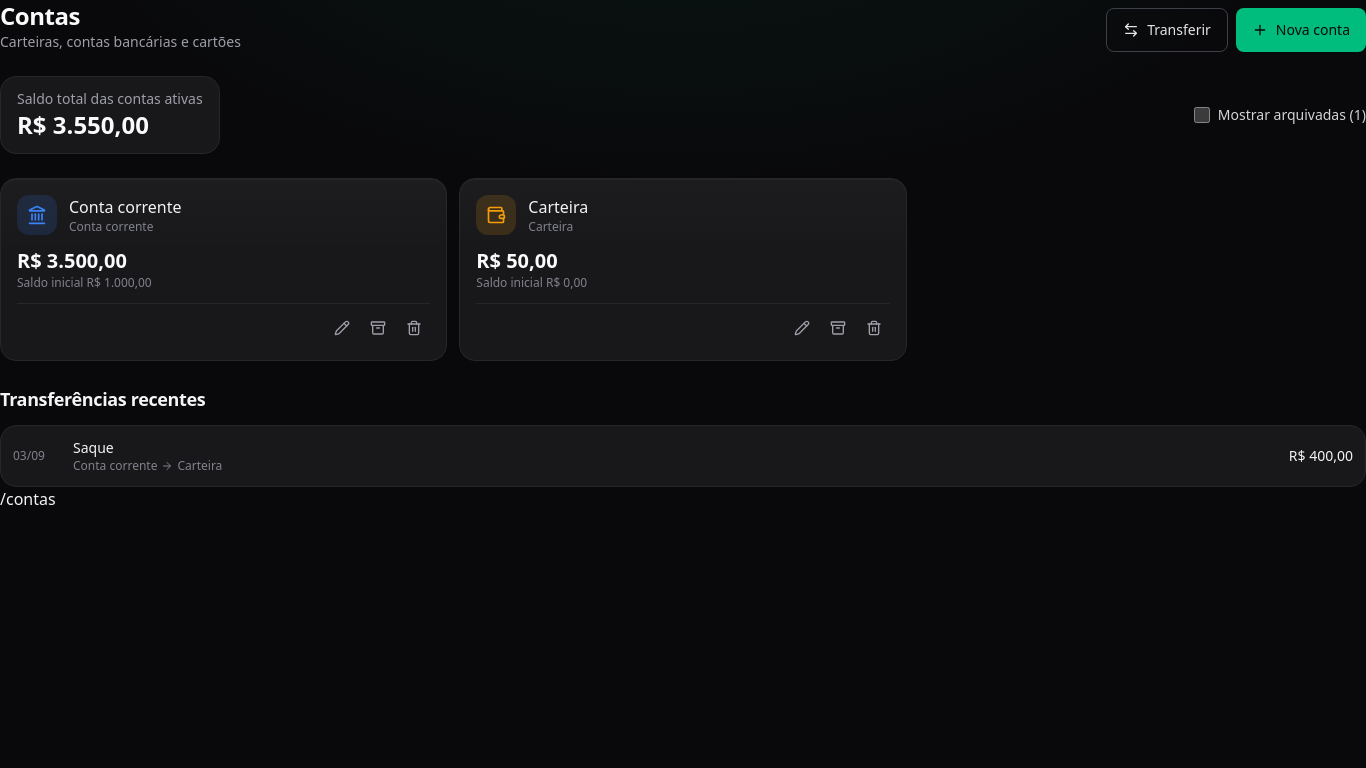
it: AccountsPage › creates an account with a negative initial balance in integer cents
expect the element "Carteira" is shown: met, box x1=459 y1=178 x2=907 y2=361
Click the button "Nova conta".
click(1301, 30)  # box x1=1236 y1=8 x2=1365 y2=52
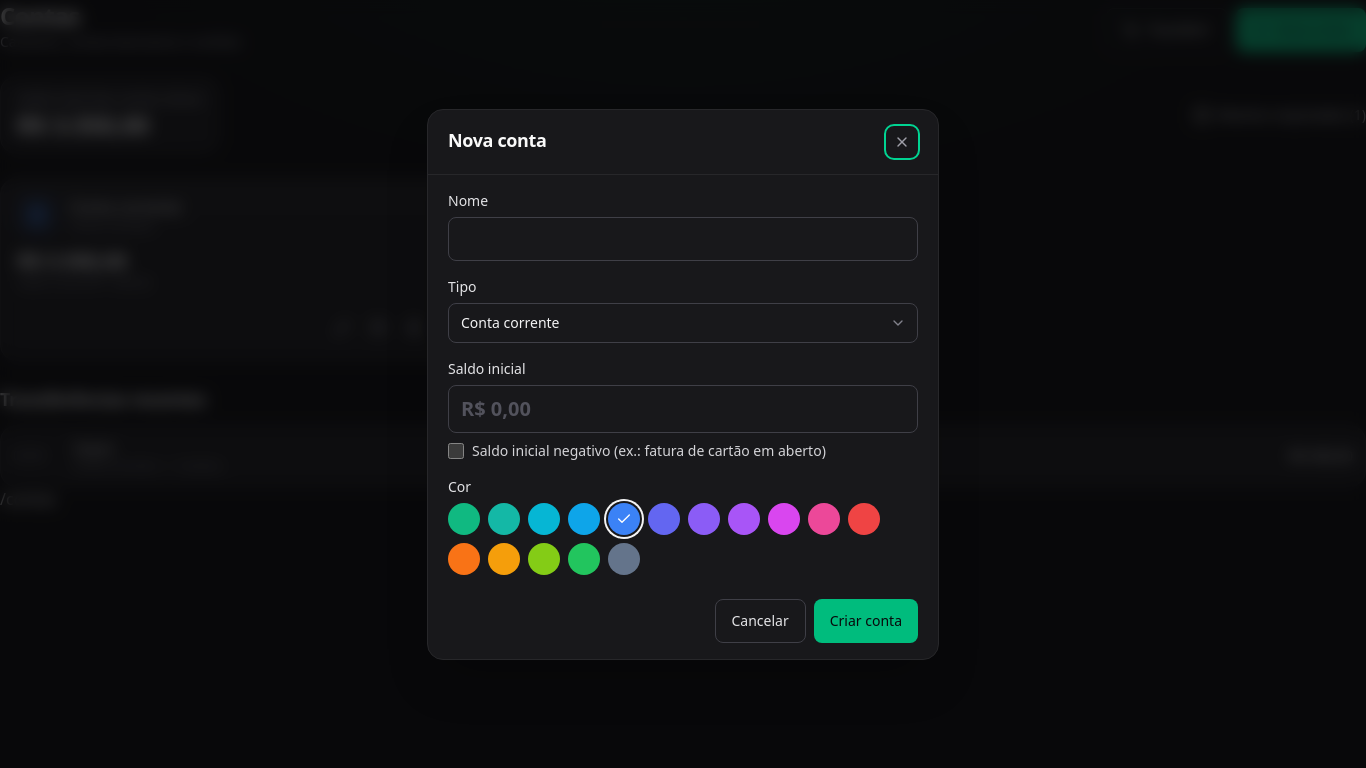
Type "Cartão Roxo" into the field labelled "Nome".
click(683, 238); type("Cartão Roxo")  # box x1=448 y1=216 x2=918 y2=260
Select "Cartão de crédito" in the dropdown labelled "Tipo" at [683, 322], box x1=448 y1=302 x2=918 y2=342
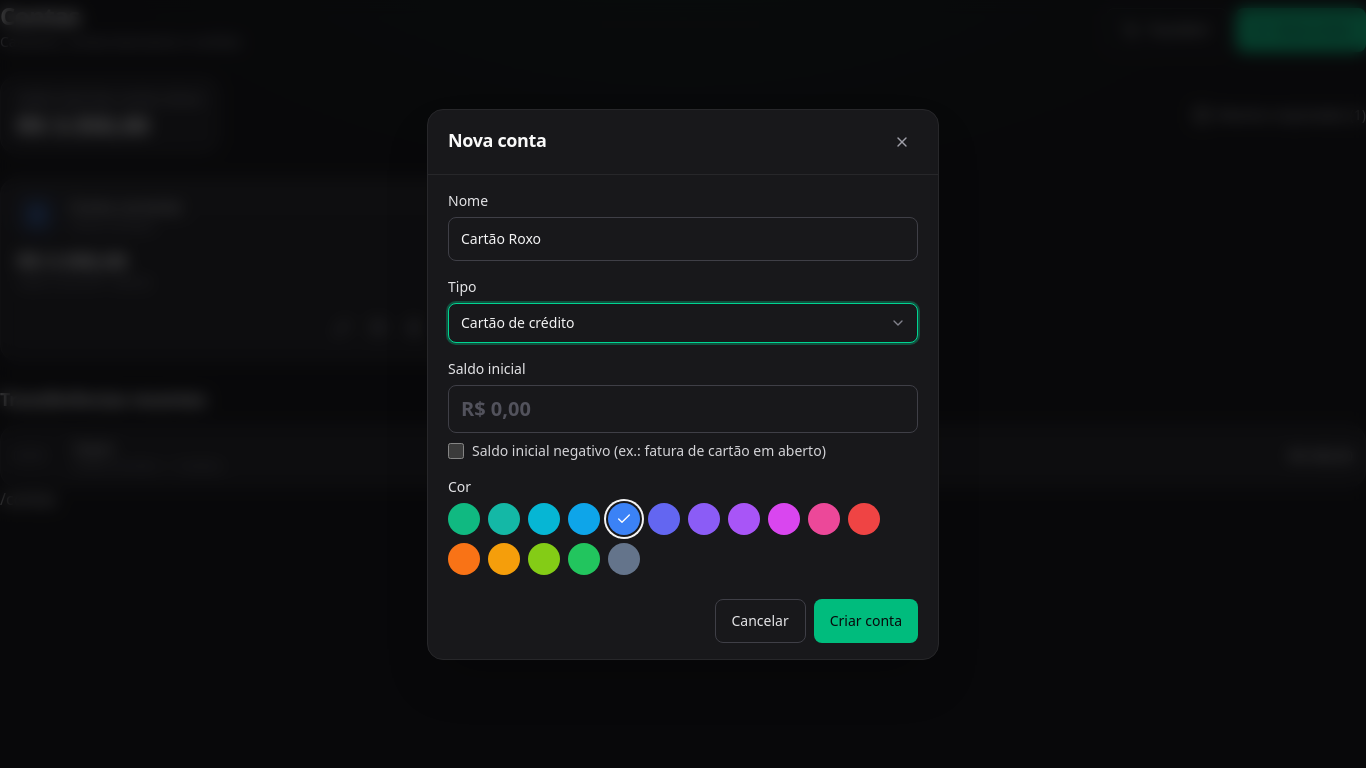
Type "123456" into the field labelled "Saldo inicial".
click(683, 408); type("123456")  # box x1=448 y1=384 x2=918 y2=432
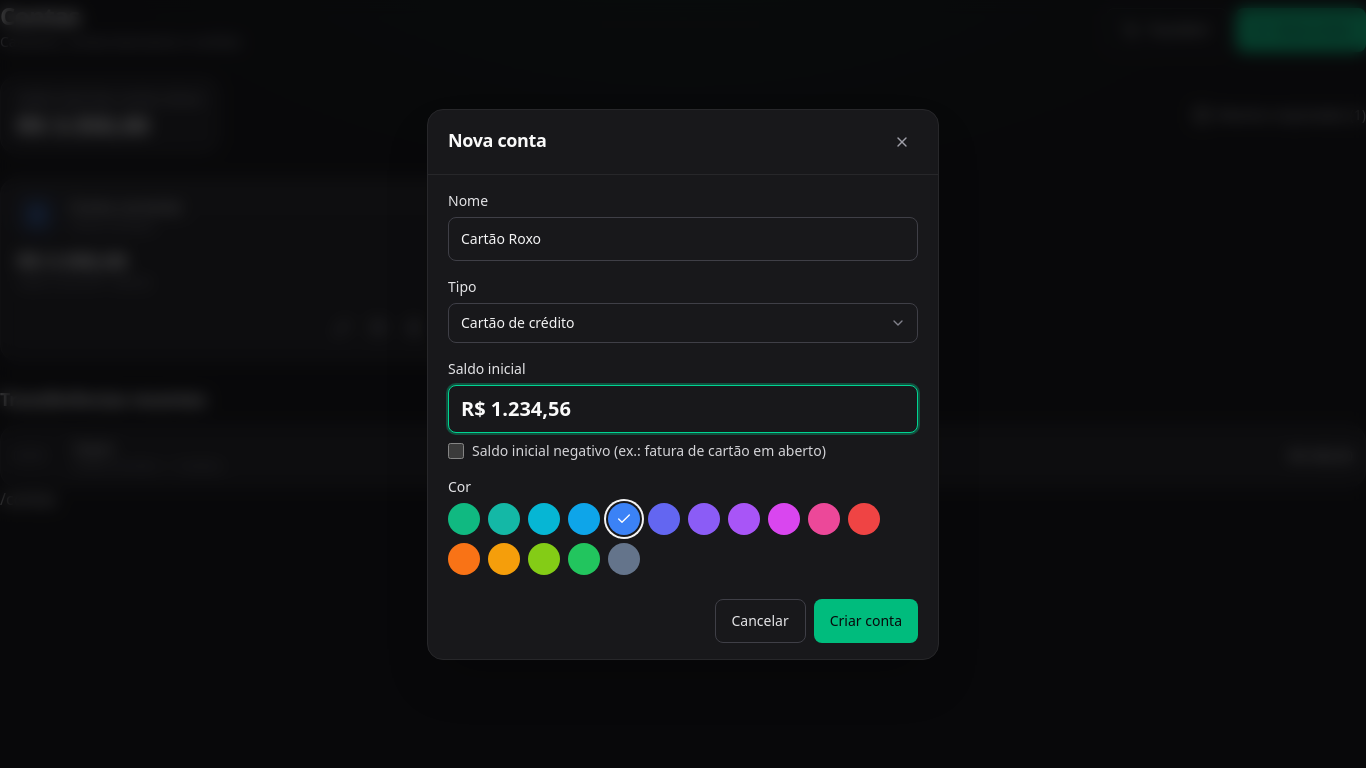
Click the checkbox labelled "Saldo inicial negativo (ex.: fatura de cartão em aberto)".
click(456, 450)  # box x1=448 y1=442 x2=464 y2=458
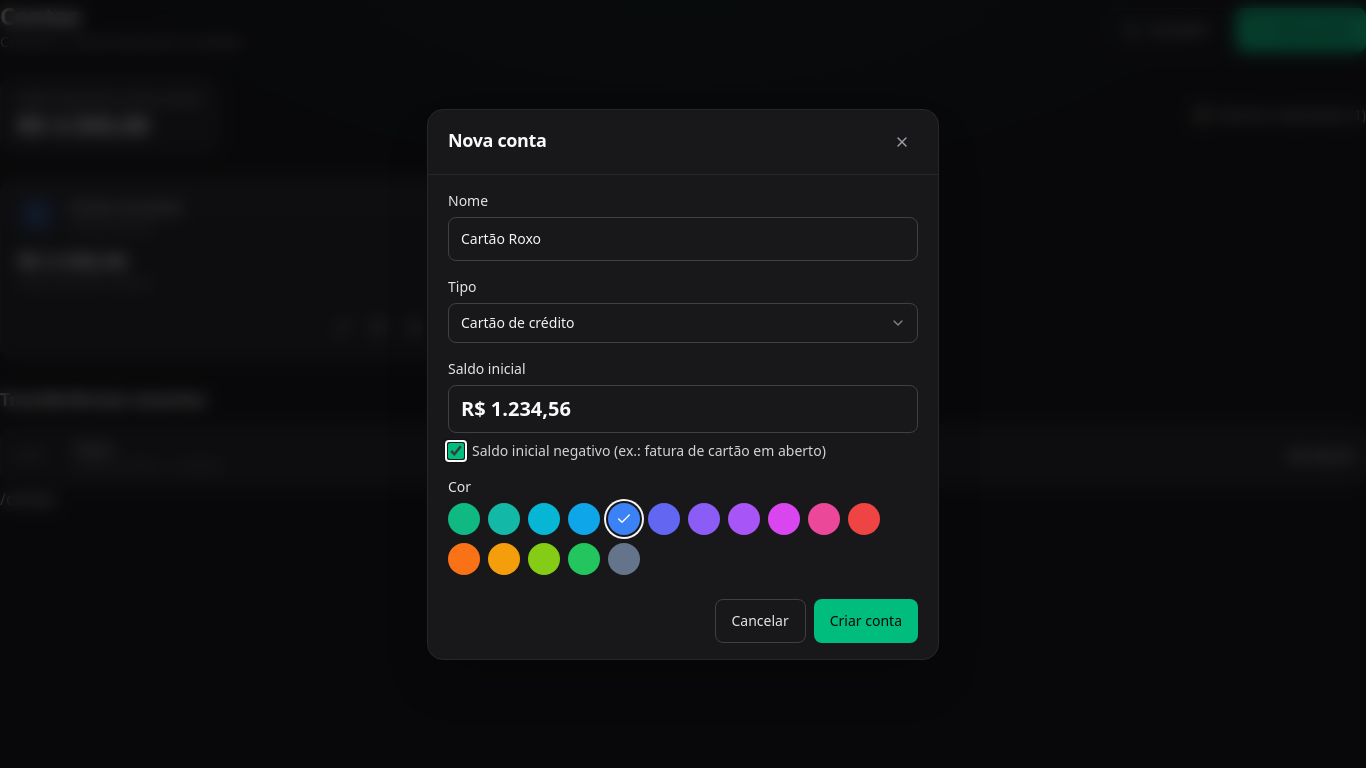
Click the radio button named "Roxo".
click(744, 518)  # box x1=728 y1=502 x2=760 y2=534
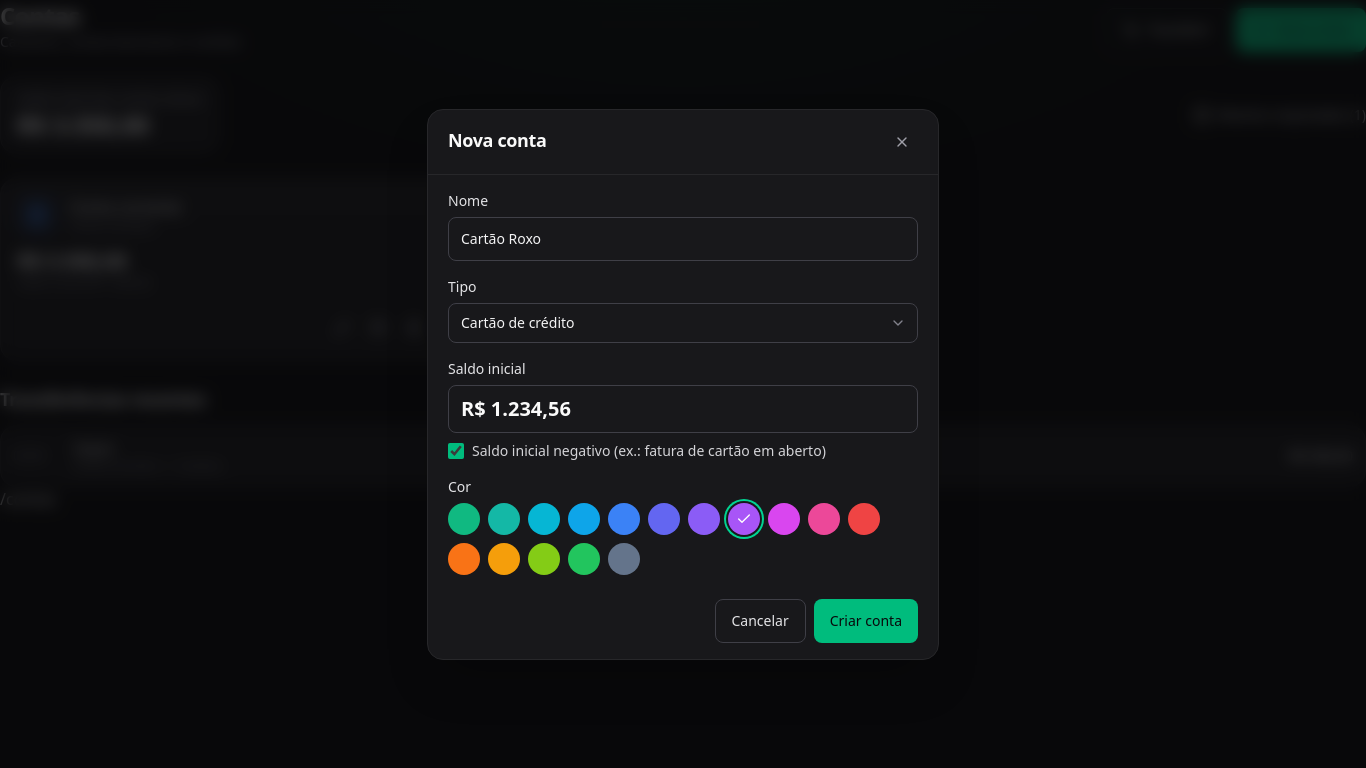
Click the button "Criar conta".
click(866, 620)  # box x1=814 y1=598 x2=918 y2=642
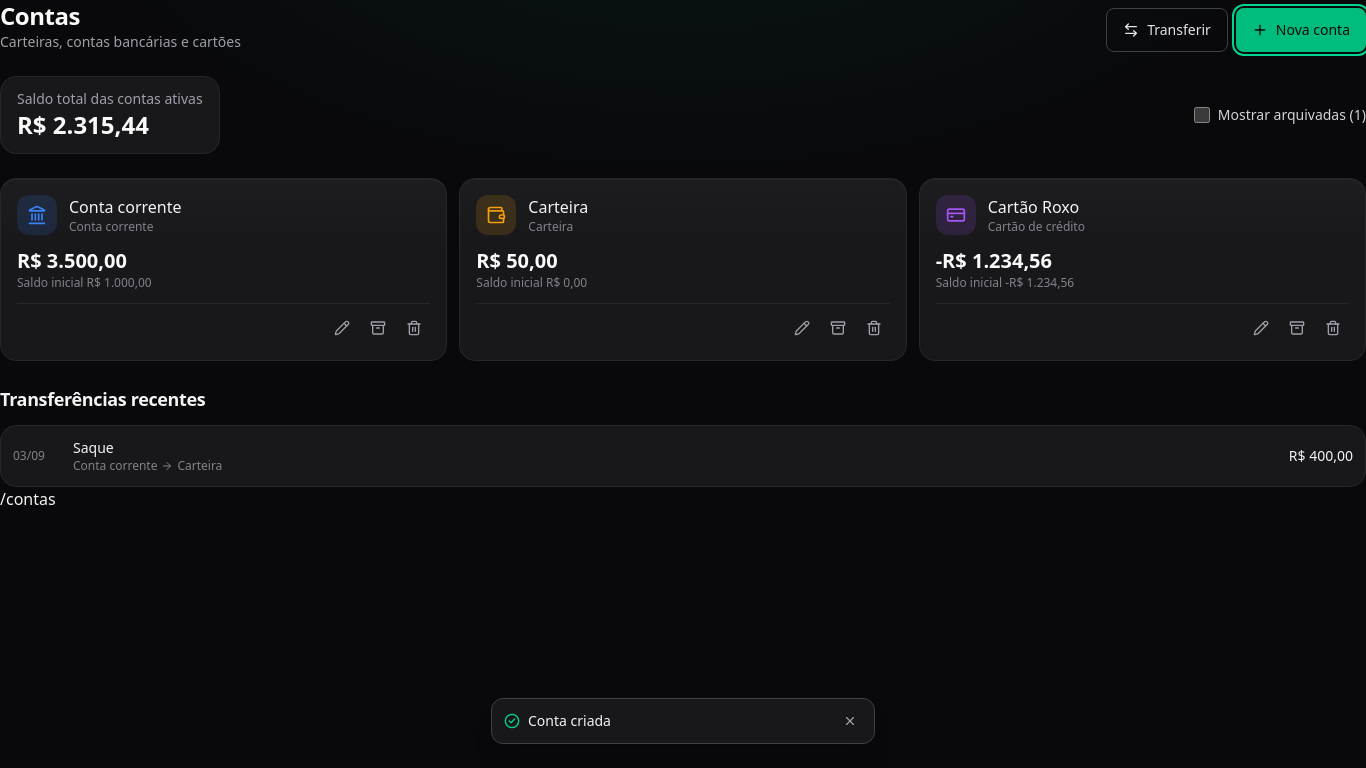
expect the text "Conta criada" is shown: met, box x1=528 y1=711 x2=611 y2=730
